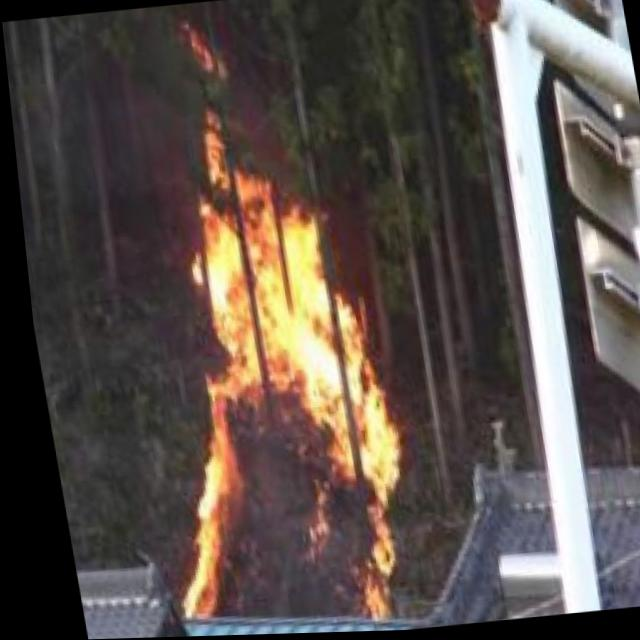Fire: (105, 116, 423, 636)
